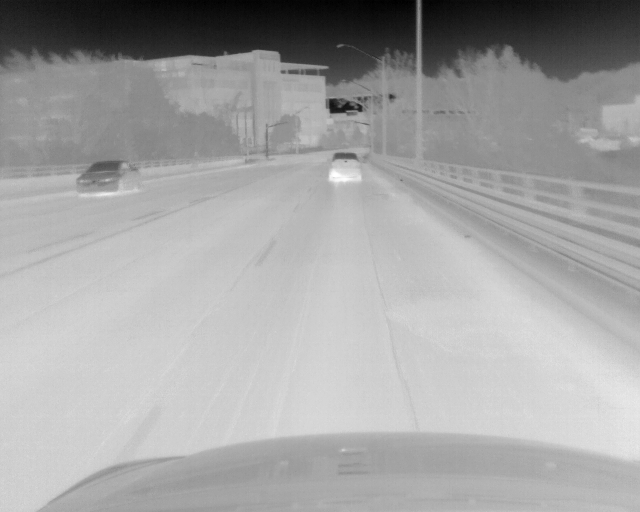car: (76, 160, 142, 194), (327, 153, 361, 182)
